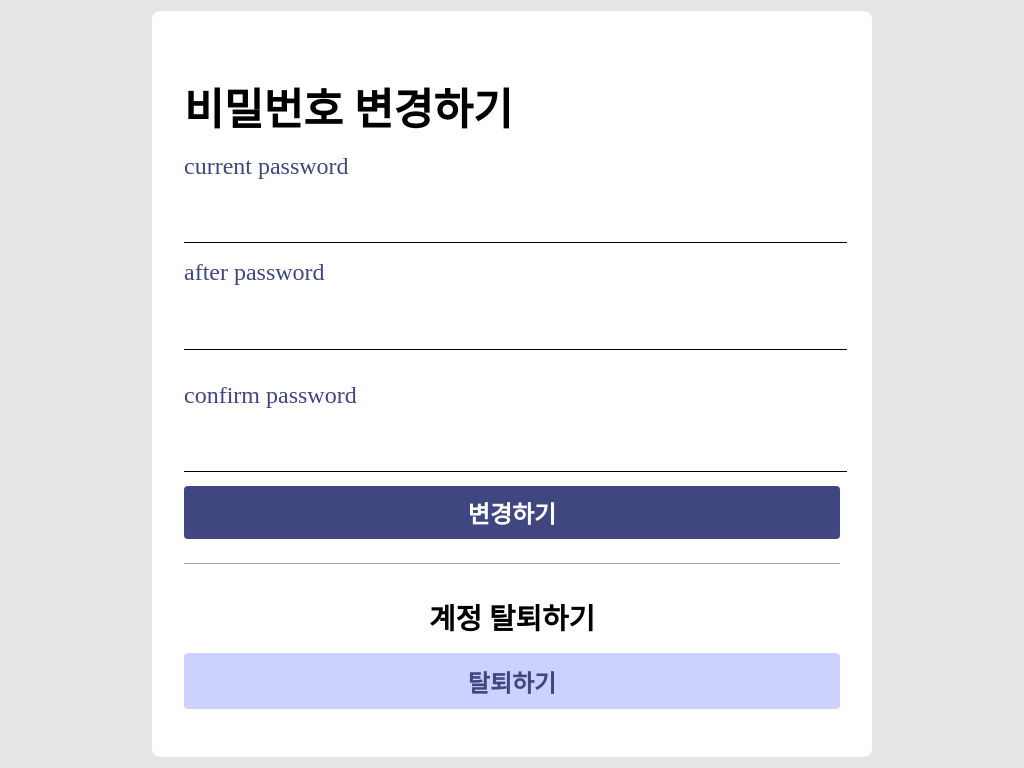
Test: Component/Organism/AccountInfoModal › 이후 비밀번호 입력창이 잘못될 경우 validator 에러 발생
Step 1. Type "1q2w3e4r" into the password field named "currentpw" → (516,225), box x1=184 y1=207 x2=847 y2=243
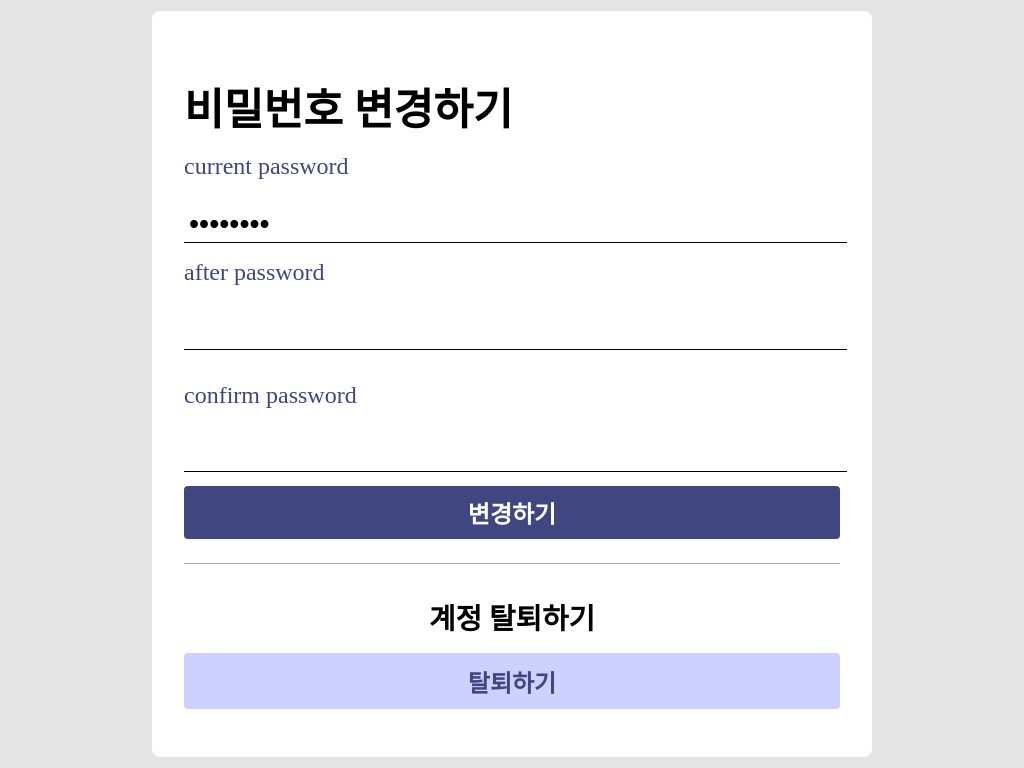
Step 2. Type "1q2w" into the password field named "afterpw" → (516,332), box x1=184 y1=314 x2=847 y2=350
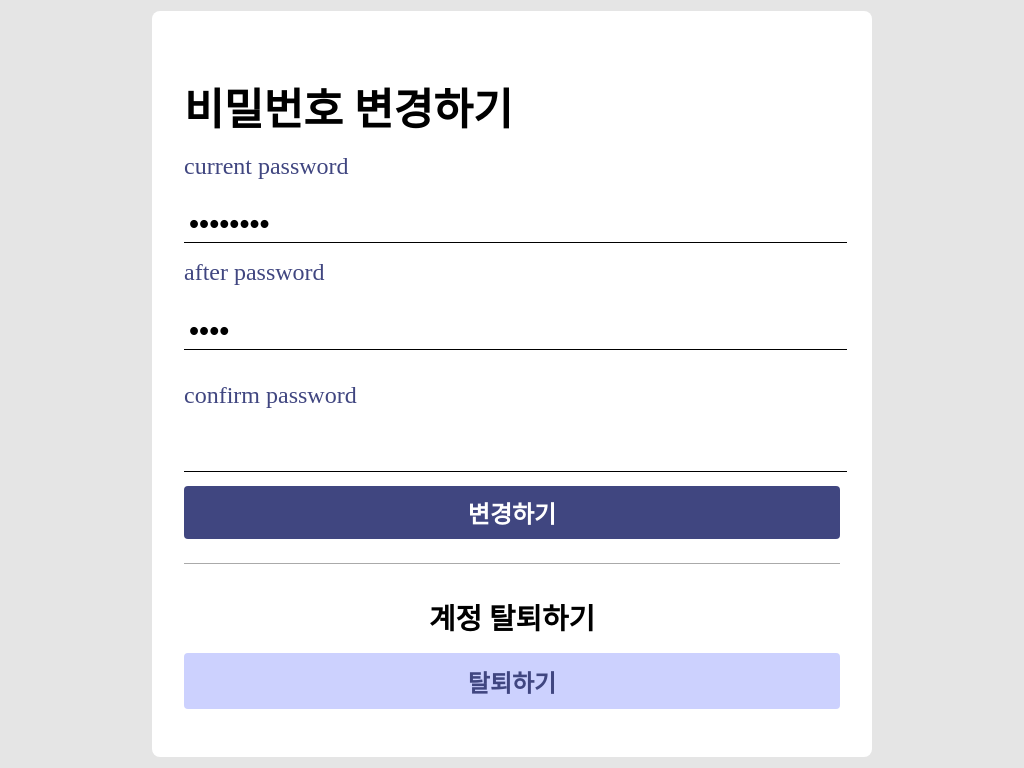
Step 3. Click the button "변경하기" → (512,513), box x1=184 y1=486 x2=840 y2=539
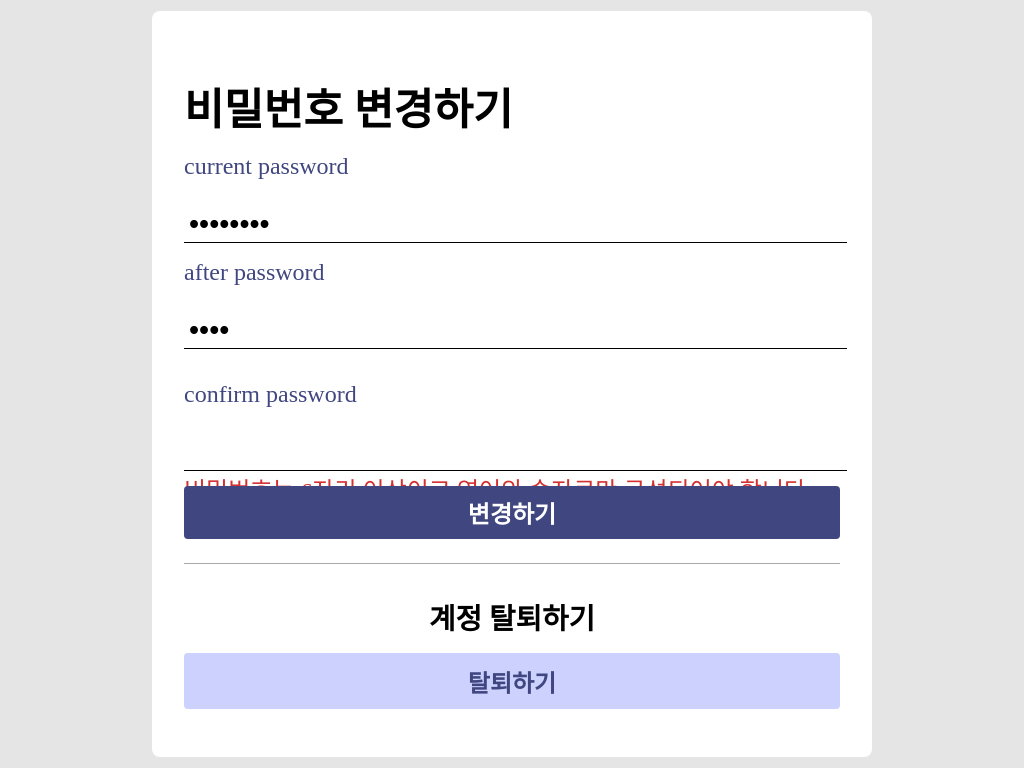
Expected: the text "비밀번호는 6자리 이상이고 영어와 숫자로만 구성되어야 합니다" is shown, x1=184 y1=471 x2=840 y2=486
